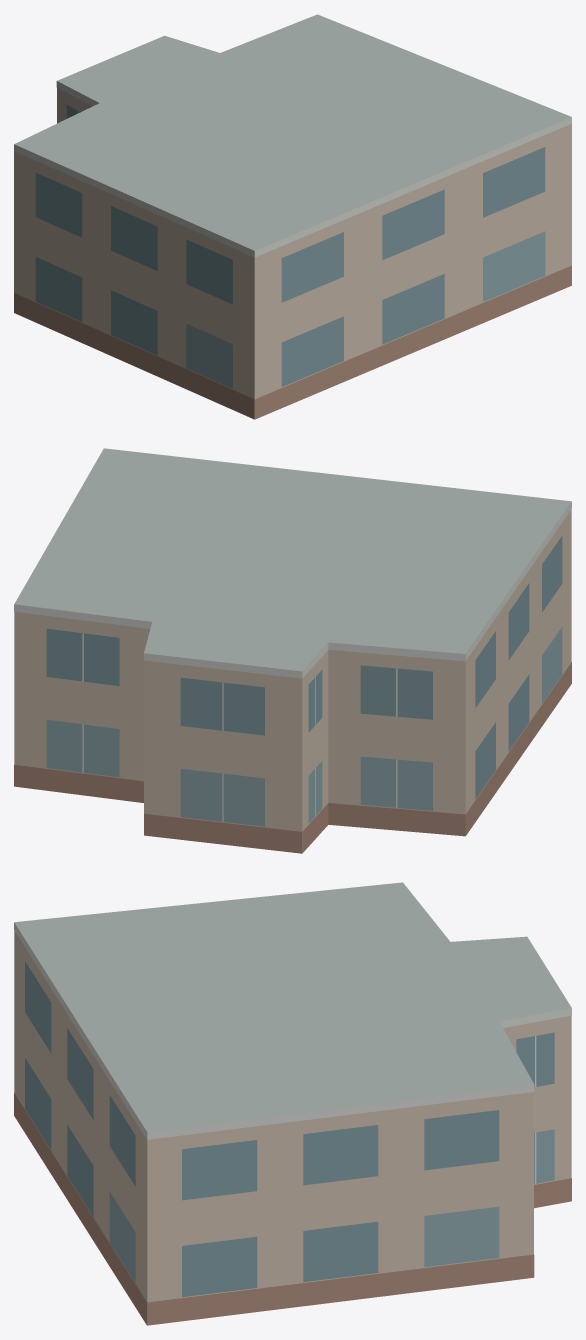
The model's file is survey-upis-32987453.glb.
3 renders of one model, top to bottom at view 1: azimuth 30°, elevation 25°; view 2: azimuth 150°, elevation 25°; view 3: azimuth 270°, elevation 25°, orthographic. The views are drawn at different scales.
Parts seen in each view (by area): view 1: survey-upis-32987453.tmp; view 2: survey-upis-32987453.tmp; view 3: survey-upis-32987453.tmp.
Part boxes in pixels (x1,y1,x2,y2): survey-upis-32987453.tmp: (14, 14, 571, 419); survey-upis-32987453.tmp: (14, 448, 571, 853); survey-upis-32987453.tmp: (14, 882, 571, 1325).
Bounding box in the file's own units: 16.9 × 6.1 × 15.95.
